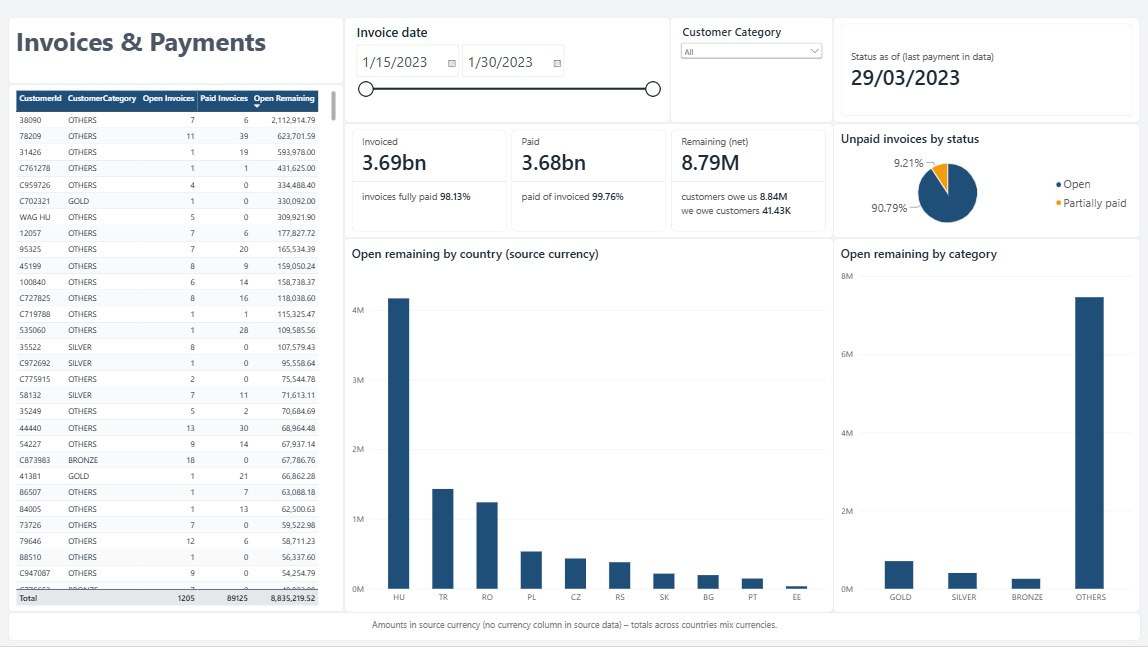

What the dashboard file says about the page in this screenshot:
{"tool":"powerbi","page":{"name":"EWG","canvas":[1920,1080],"ordinal":0},"visuals":[{"type":"slicer","fields":{"Values":["mart dim_date.Date"]},"box":[576,32,544,176],"z":0},{"type":"cardVisual","title":"invoices fully paid","fields":{"Data":["mart fct_invoice.Invoiced","mart fct_invoice.Paid","mart fct_invoice.Remaining"]},"box":[576,208,816,192],"z":1000},{"type":"slicer","fields":{"Values":["mart dim_customer.CustomerCategory"]},"box":[1120,32,272,176],"z":2000},{"type":"tableEx","fields":{"Values":["mart dim_customer.CustomerId","mart dim_customer.CustomerCategory","mart fct_invoice.Open Invoices","mart fct_invoice.Paid Invoices","mart fct_invoice.Open Remaining"]},"box":[16,144,560,880],"z":3000},{"type":"clusteredColumnChart","title":"Open remaining by country (source currency)","fields":{"Category":["mart fct_invoice.CountryId"],"Y":["mart fct_invoice.Open Remaining"]},"box":[576,400,816,624],"z":4000},{"type":"pieChart","title":"Unpaid invoices by status","fields":{"Category":["mart fct_invoice.InvoiceStatus"],"Y":["CountNonNull(mart fct_invoice.InvoiceNumber)"]},"box":[1392,208,512,192],"z":5000},{"type":"columnChart","title":"Open remaining by category","fields":{"Category":["mart dim_customer.CustomerCategory"],"Y":["mart fct_invoice.Open Remaining"]},"box":[1392,400,512,624],"z":6000},{"type":"textbox","box":[16,1024,1888,48],"z":7000},{"type":"cardVisual","fields":{"Data":["mart dim_date.Data as of"]},"box":[1392,32,512,176],"z":8000},{"type":"textbox","box":[16,32,560,112],"z":9000}]}

Visuals, with their boxes in screenshot pixels (x1, y1, x2, y2), scaled from the page's 1920x1080 canvas onto the 1148x647 screenshot:
slicer - mart dim_date.Date: (left=344, top=19, right=670, bottom=125)
"invoices fully paid" cardVisual: (left=344, top=125, right=832, bottom=240)
slicer - mart dim_customer.CustomerCategory: (left=670, top=19, right=832, bottom=125)
tableEx - mart dim_customer.CustomerId x mart dim_customer.CustomerCategory: (left=10, top=86, right=344, bottom=613)
"Open remaining by country (source currency)" clusteredColumnChart: (left=344, top=240, right=832, bottom=613)
"Unpaid invoices by status" pieChart: (left=832, top=125, right=1138, bottom=240)
"Open remaining by category" columnChart: (left=832, top=240, right=1138, bottom=613)
textbox: (left=10, top=613, right=1138, bottom=642)
cardVisual - mart dim_date.Data as of: (left=832, top=19, right=1138, bottom=125)
textbox: (left=10, top=19, right=344, bottom=86)
